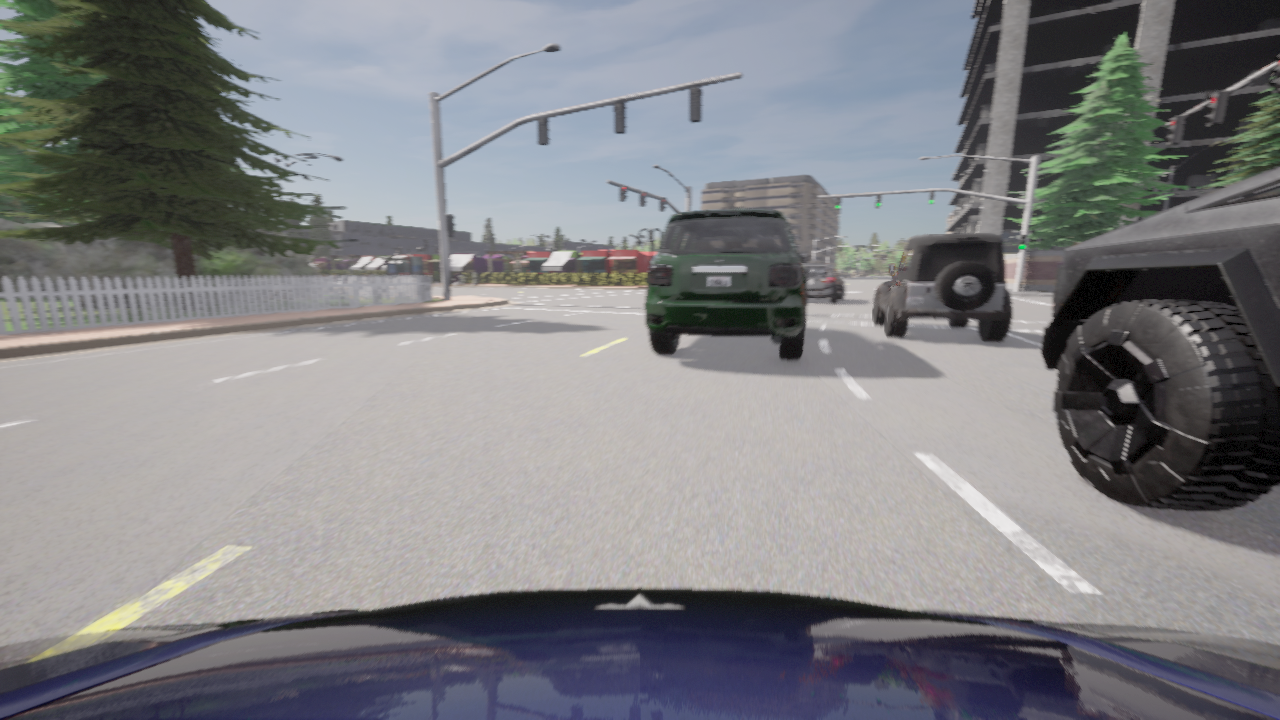cyclist: (0, 588, 1279, 719), (1040, 167, 1279, 511), (645, 209, 809, 358), (873, 233, 1011, 340), (803, 263, 844, 302)
